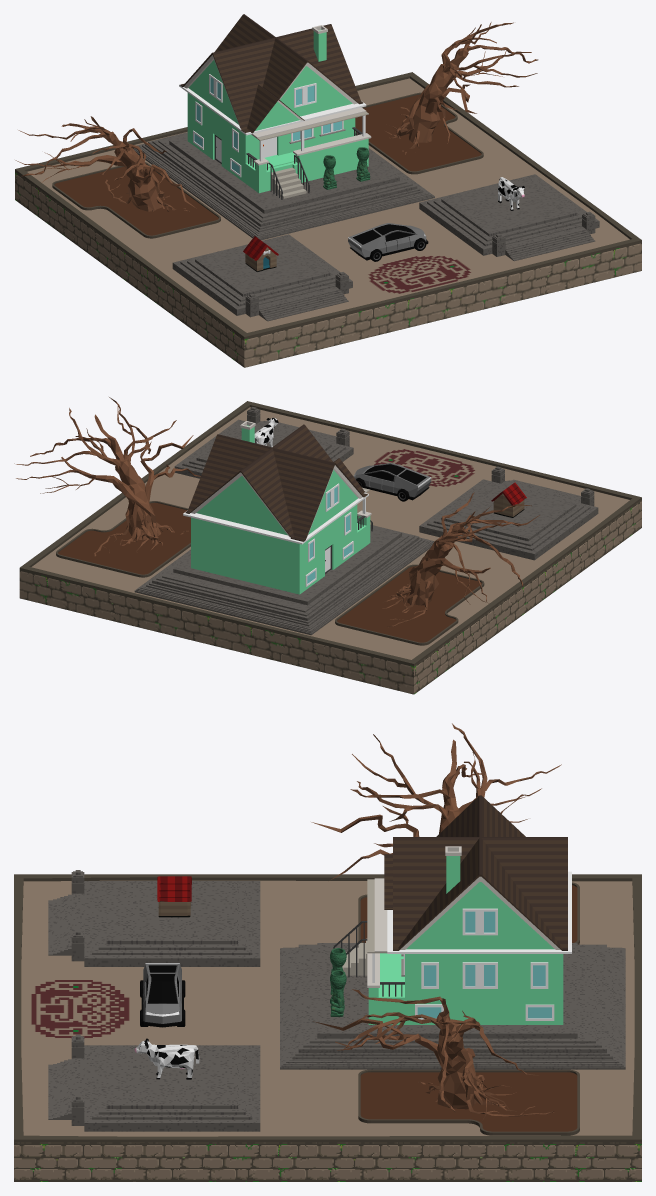
The picture shows the model from 3 angles, top to bottom: view 1: azimuth 30°, elevation 25°; view 2: azimuth 150°, elevation 25°; view 3: azimuth 270°, elevation 25°; orthographic projection. The views are drawn at different scales.
Parts seen in each view (by area): view 1: Cube.011, Cube.352, VEHICLES_CYBERTRUCK, OBJRANDOM_DOGHOUSE, ANIMAL_VACA; view 2: Cube.011, Cube.352, VEHICLES_CYBERTRUCK, OBJRANDOM_DOGHOUSE; view 3: Cube.011, Cube.352, VEHICLES_CYBERTRUCK, OBJRANDOM_DOGHOUSE, ANIMAL_VACA.
Boxes of the visible parts, x1,y1,x2,y2 form: Cube.011: (15,22,641,367); Cube.352: (179,14,371,199); VEHICLES_CYBERTRUCK: (348,223,428,261); OBJRANDOM_DOGHOUSE: (243,236,278,271); ANIMAL_VACA: (497,177,524,210); Cube.011: (14,397,641,694); Cube.352: (183,421,372,594); VEHICLES_CYBERTRUCK: (353,463,431,501); OBJRANDOM_DOGHOUSE: (491,482,526,517); Cube.011: (14,723,641,1181); Cube.352: (333,795,571,1024); VEHICLES_CYBERTRUCK: (140,963,185,1027); OBJRANDOM_DOGHOUSE: (157,876,191,917); ANIMAL_VACA: (134,1038,199,1079).
Bounding box in the file's own units: 5099 × 1663 × 4000.
34 materials, 5 textured.
